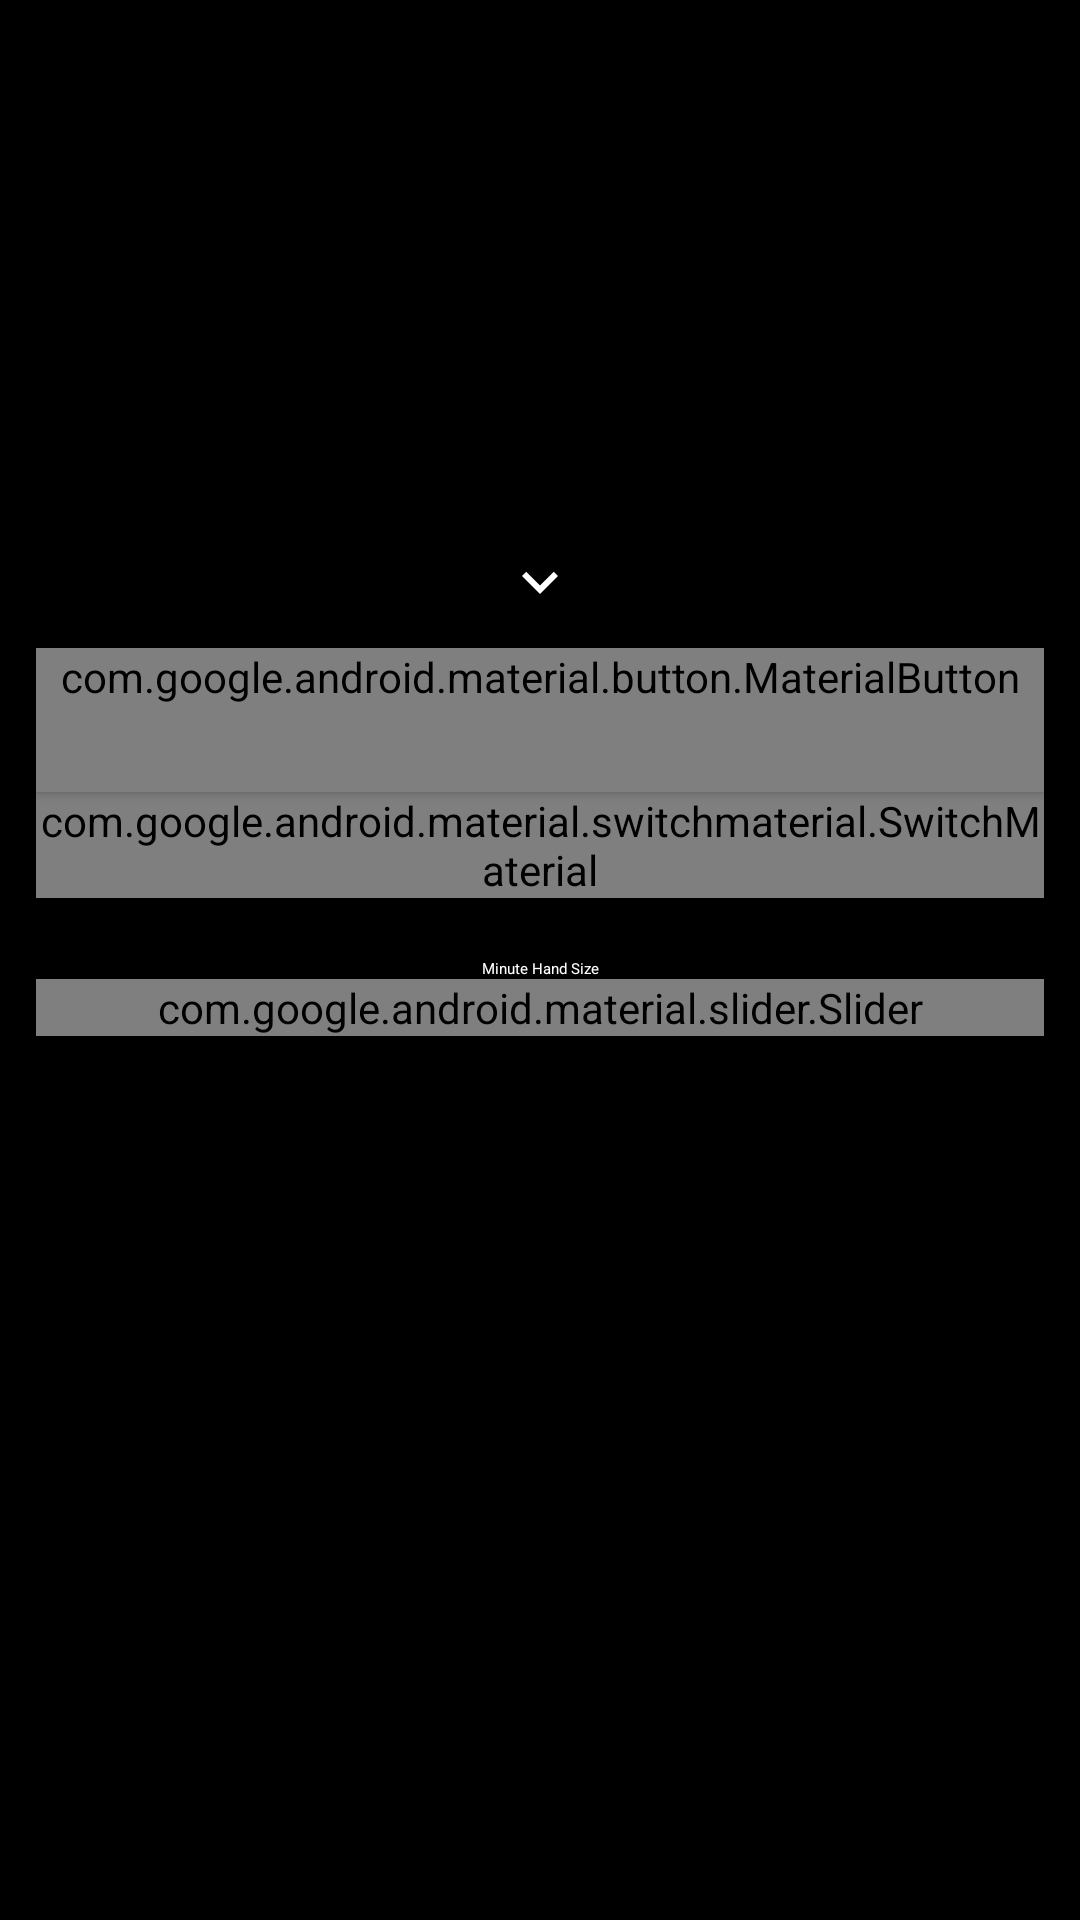

Where to tap for icons on this 1080*1920 app screen, as point (x, y):
Icon to indicate there are more options if you scroll down: point (540, 583)
